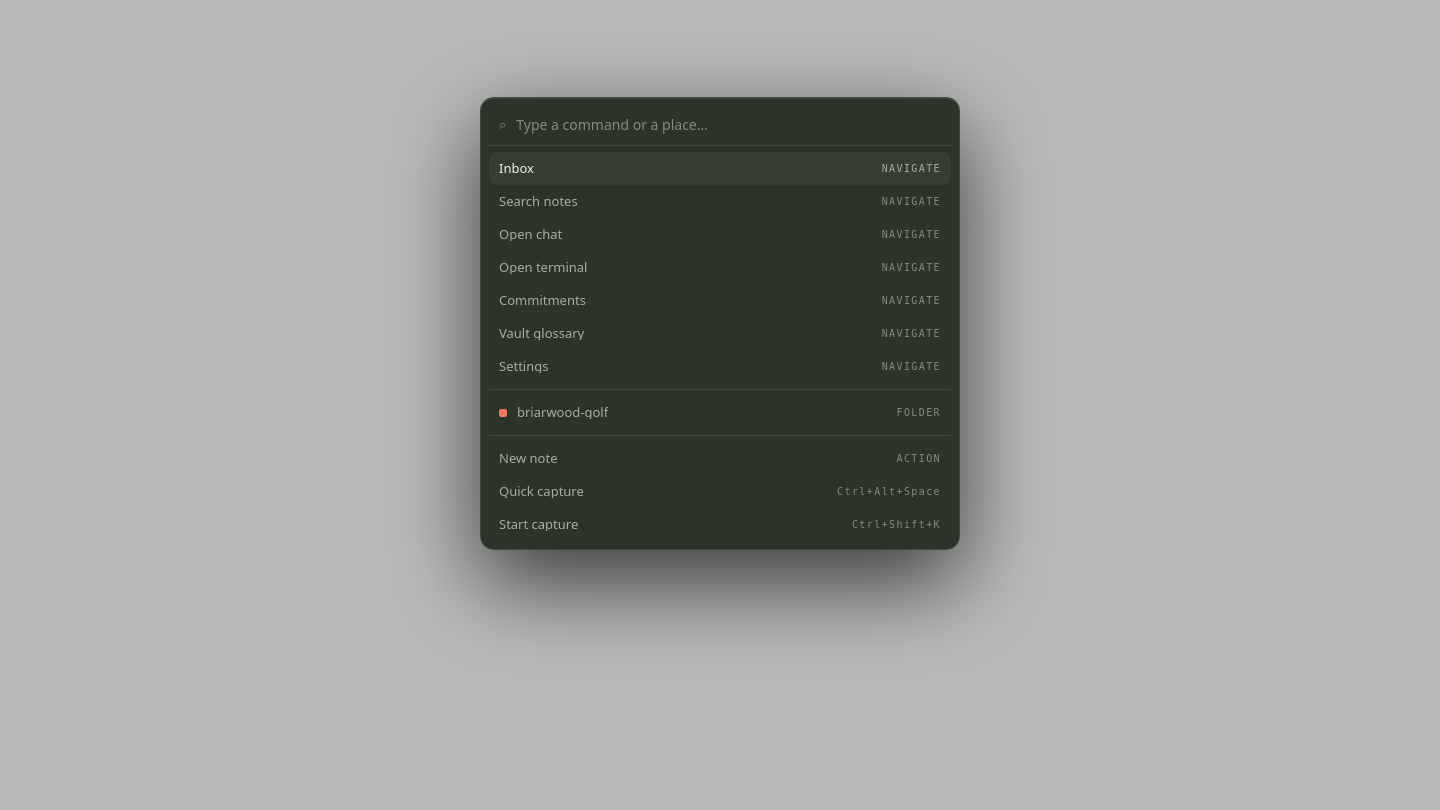
Test: CommandPalette › drops the group scaffolding while filtering
Check: the option "briarwood-golf folder" is shown, box 499,403 -> 941,421
Type "briarwood" into the dropdown at (729, 125), box 516,114 -> 941,135
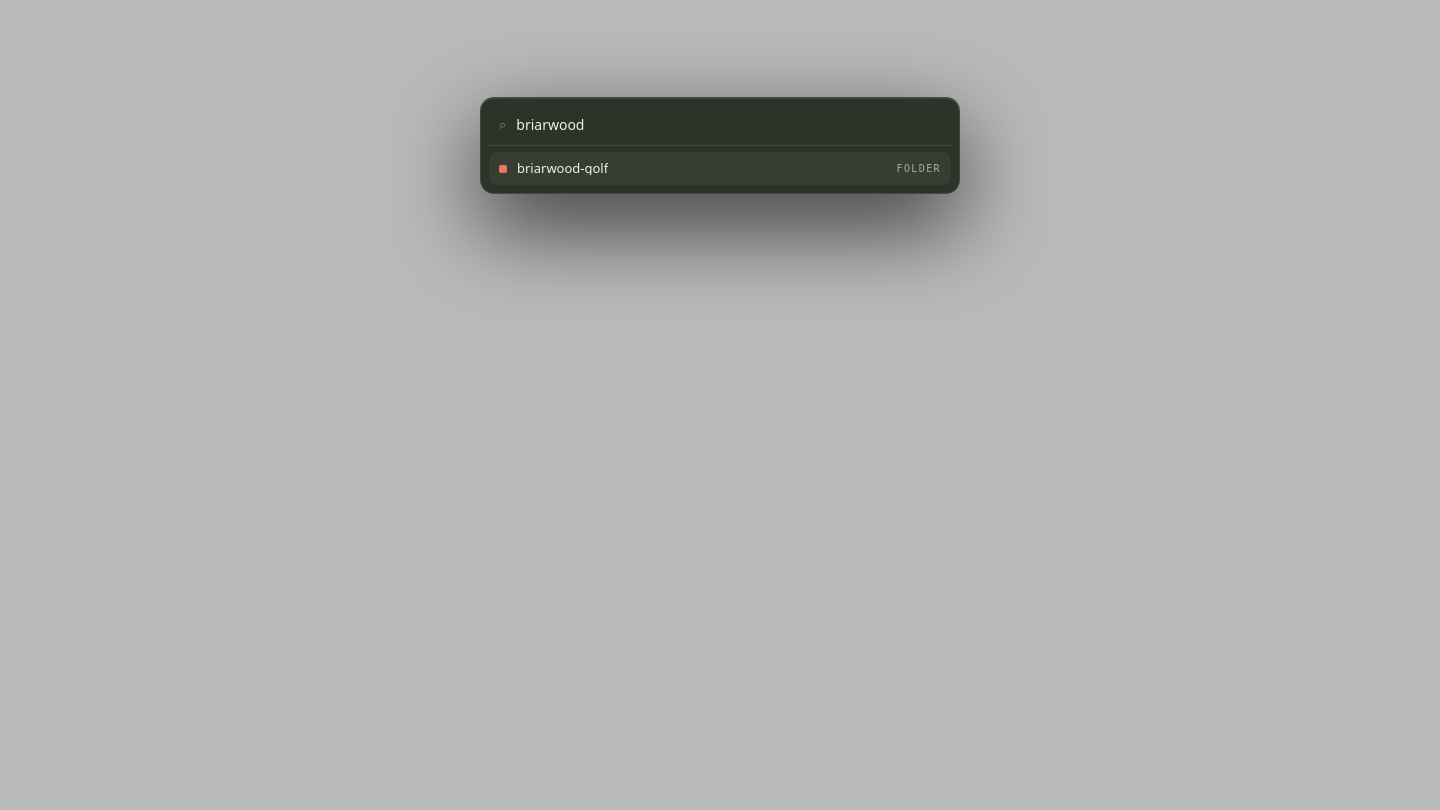
Check: the element "Jump to" is not shown
Check: the number of options is 1, box 489,152 -> 951,185
